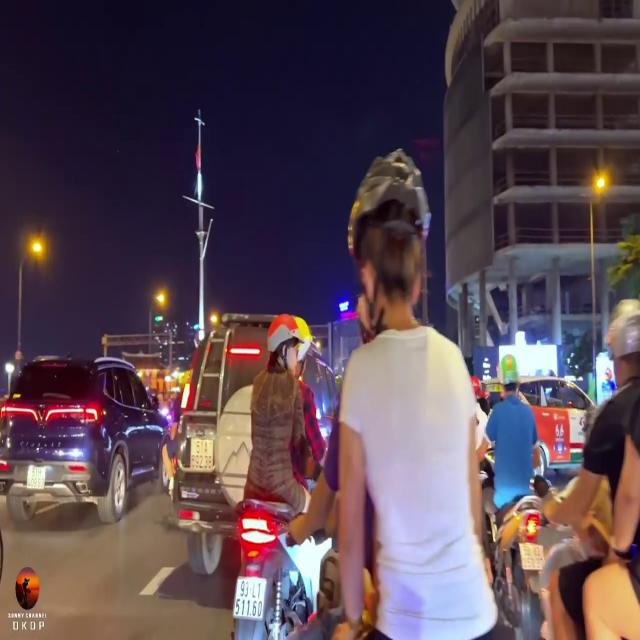bien_trang: (230, 575, 266, 623), (191, 438, 211, 471), (26, 464, 46, 490)
